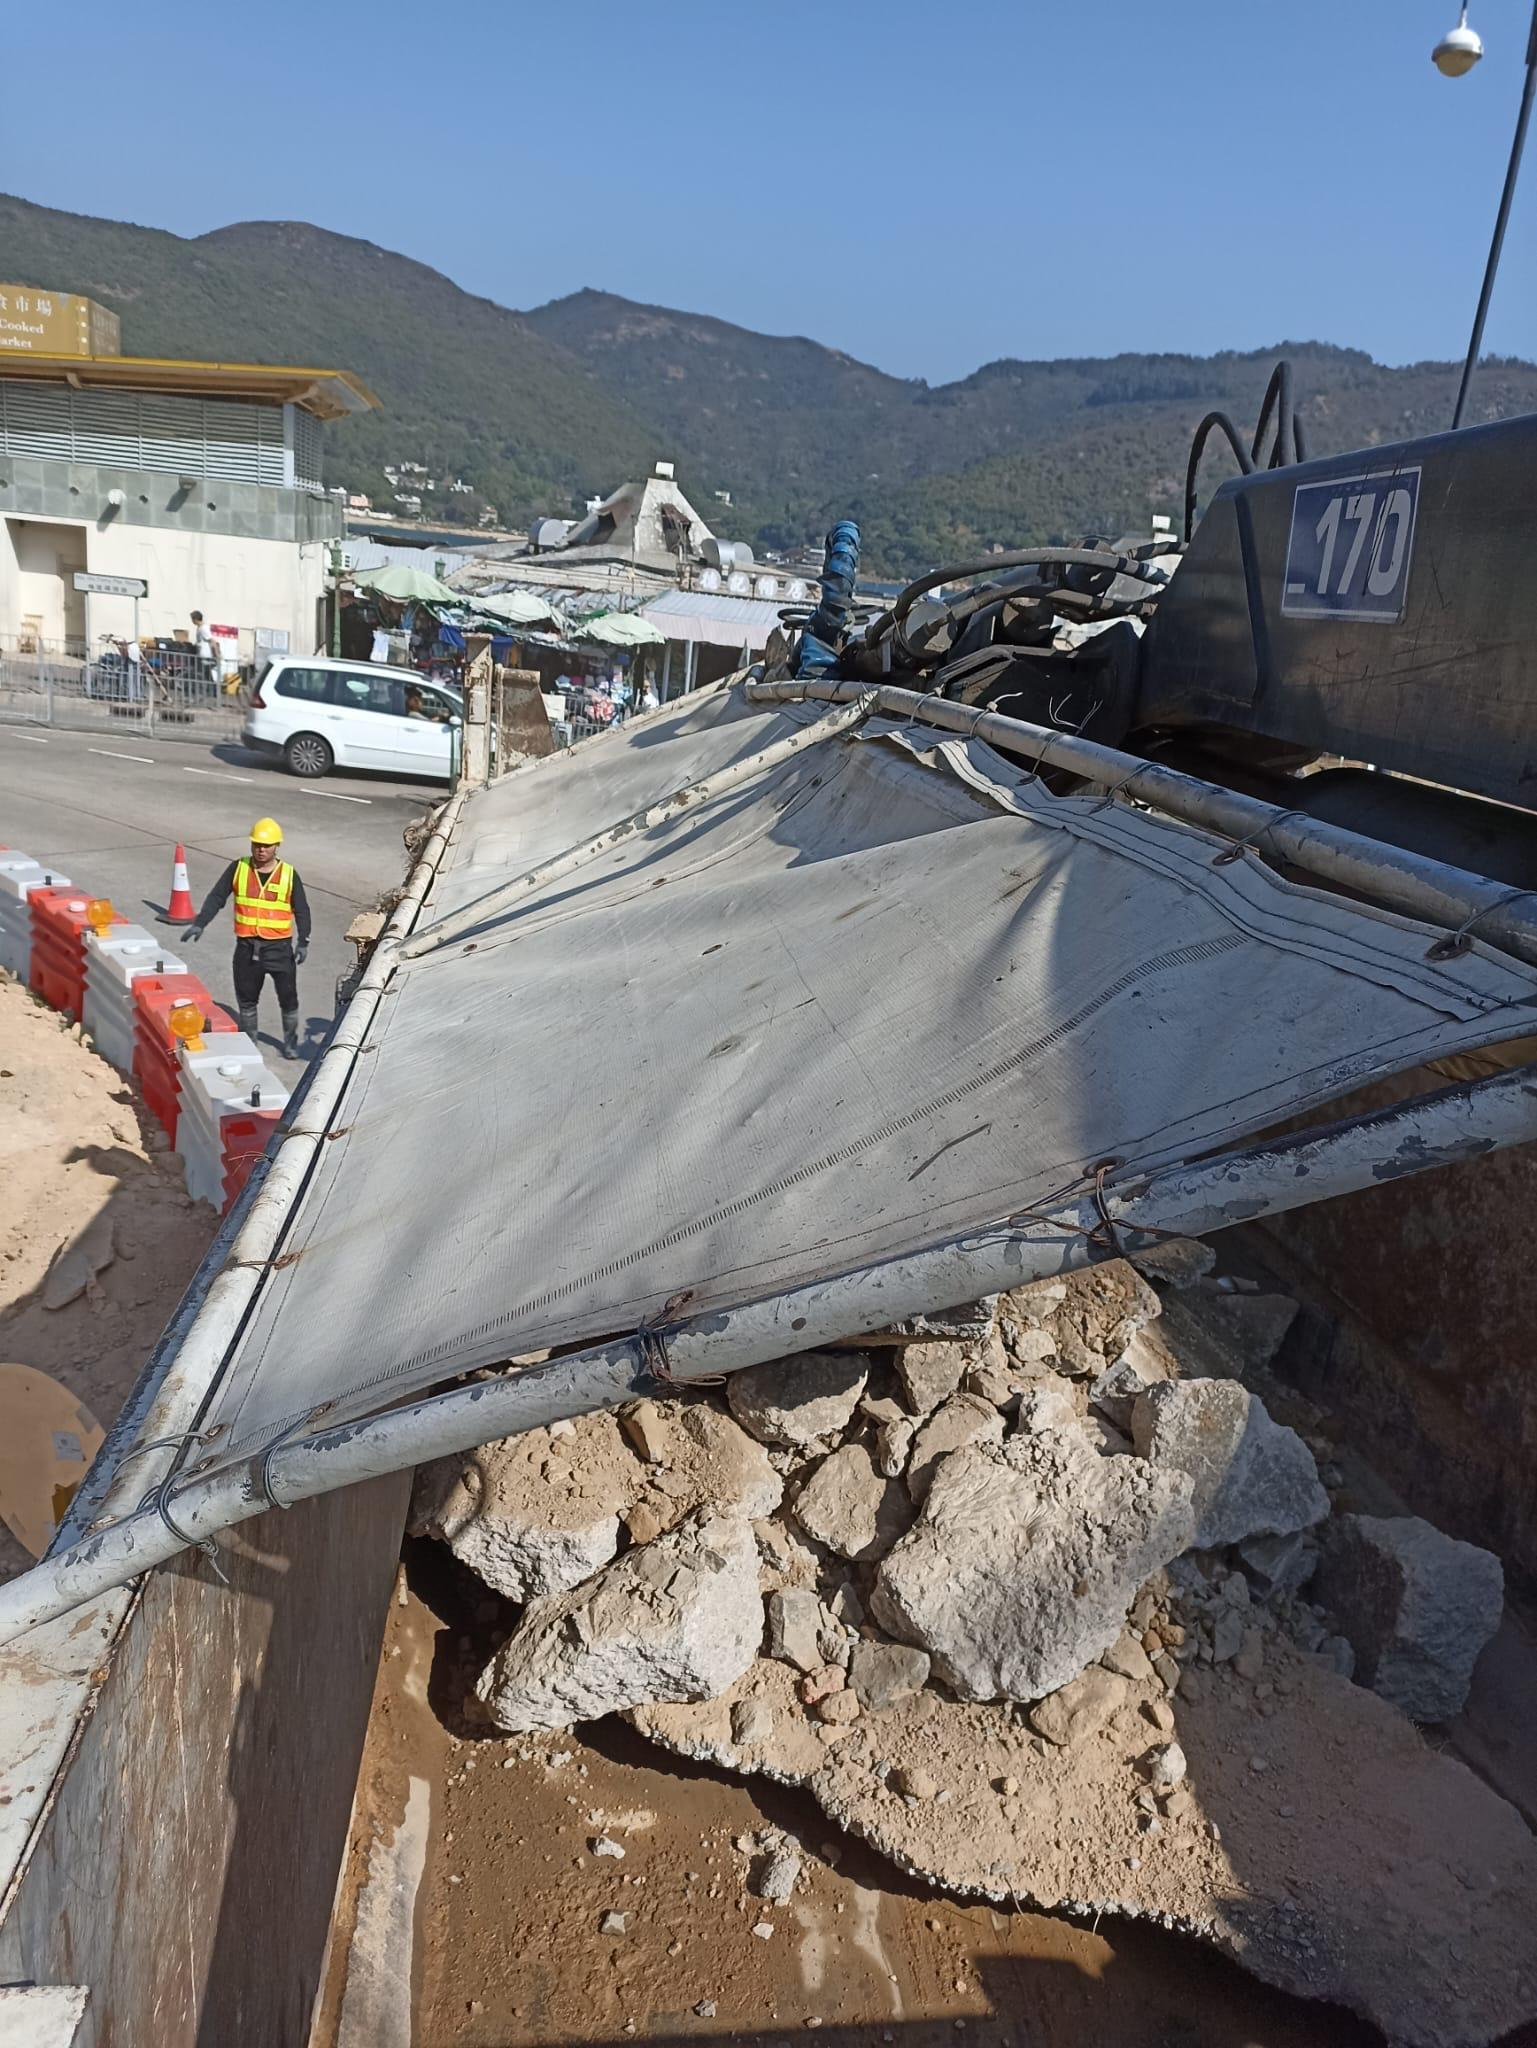dry: (470, 1254, 1506, 2043)
